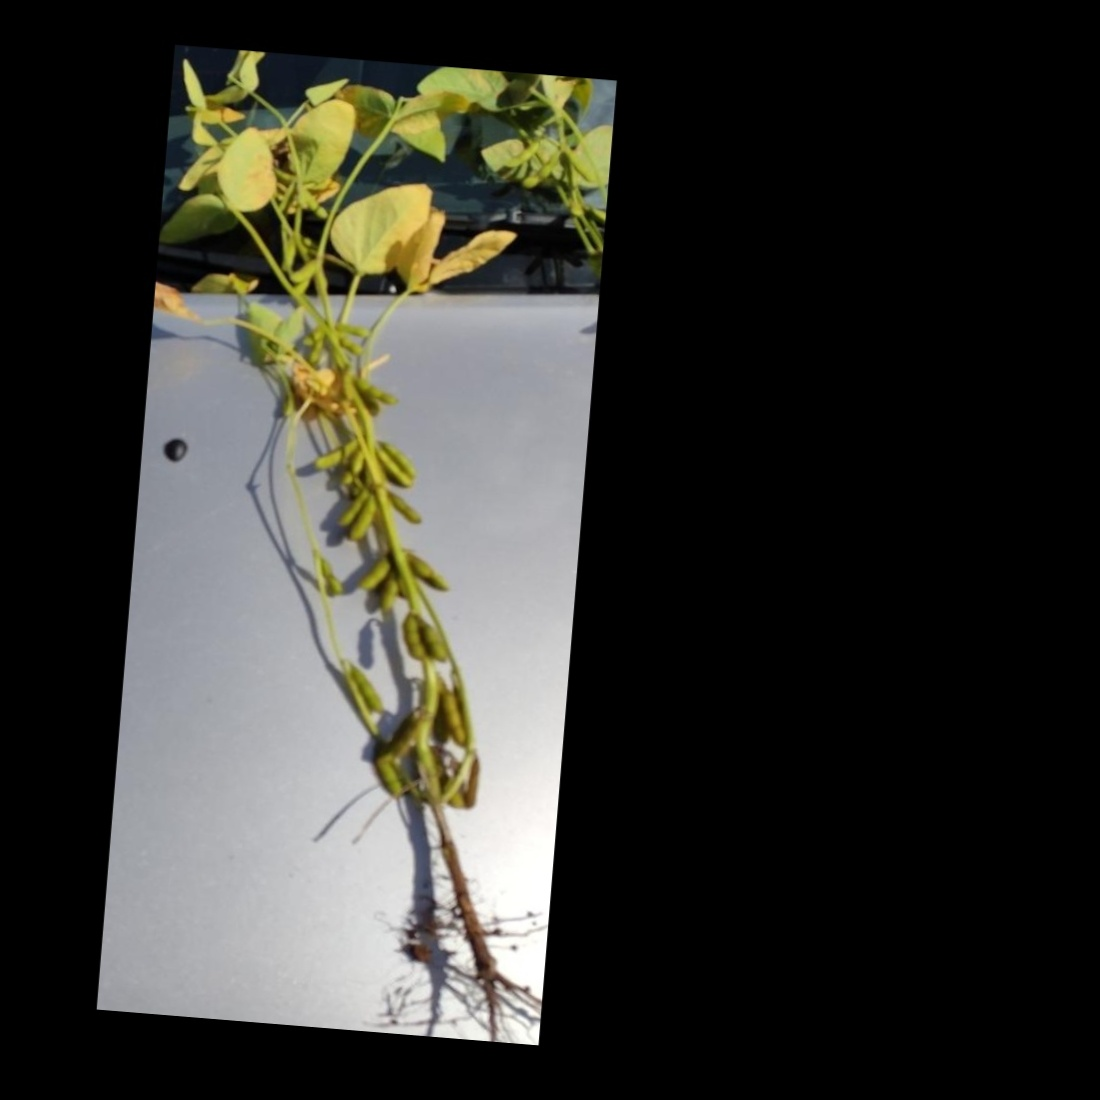pod: (339, 655, 388, 721), (368, 439, 423, 485), (369, 440, 416, 493), (303, 433, 359, 474), (398, 608, 432, 675), (343, 493, 385, 547), (354, 372, 408, 408), (355, 548, 394, 595), (417, 616, 452, 664), (285, 254, 328, 290), (319, 557, 345, 596)
soy: (111, 107, 604, 1048)
